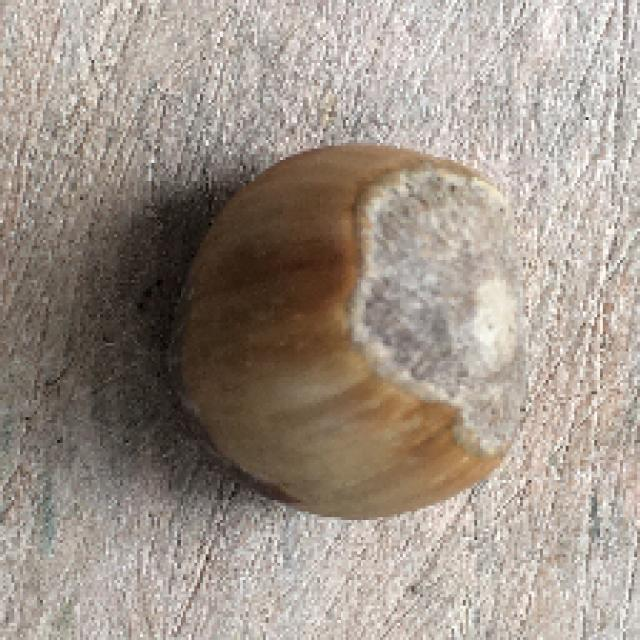qualityHazelnut: (172, 134, 534, 520)
